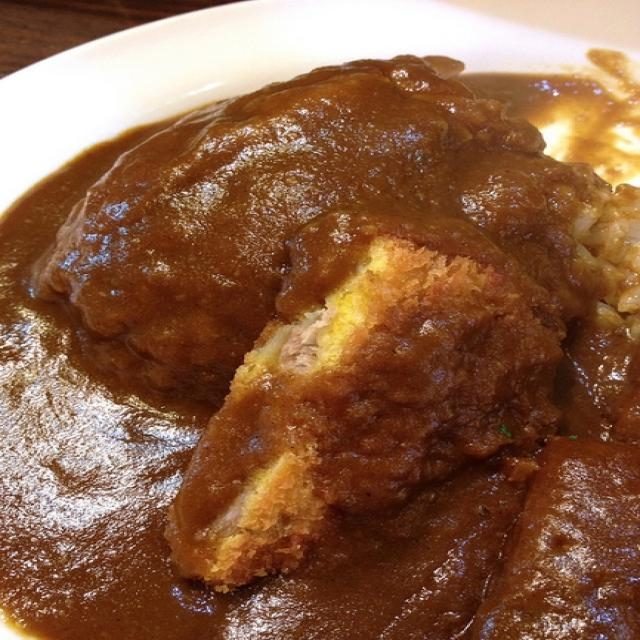牛肉菜式: (24, 31, 624, 623)
